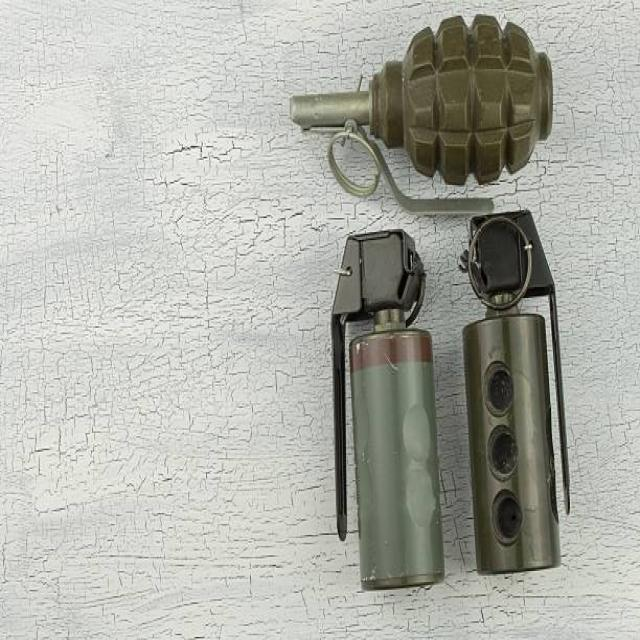grenade: (289, 6, 563, 224), (323, 222, 457, 598), (466, 192, 576, 602)
